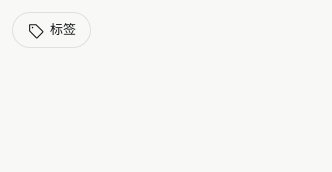
Scenario: disables an inactive quick-tag button and closes its open sheet
Later steps or results of the test are not shown.
Click the button with aria-label "标签收藏".
click(52, 30)  # box [12, 12, 91, 48]
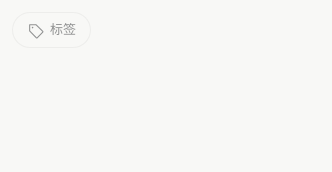
Expected: the button with aria-label "标签收藏" is disabled, [12, 12, 91, 48]
